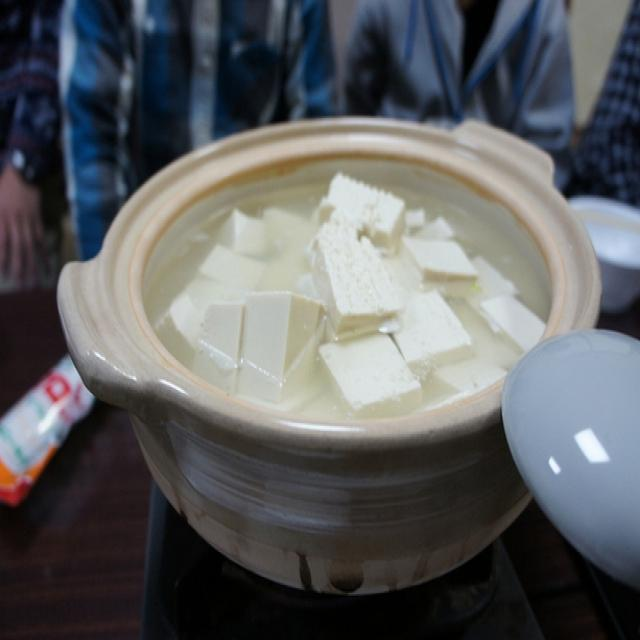豆腐料理: (41, 85, 610, 588)
